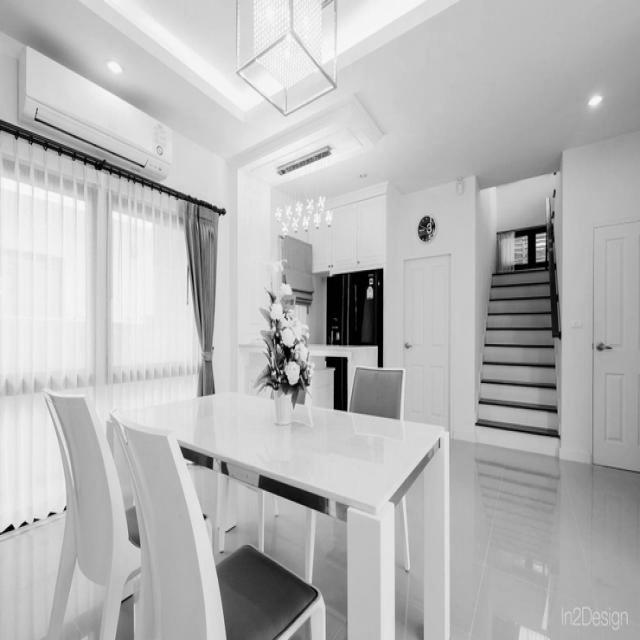table: (110, 361, 454, 544)
